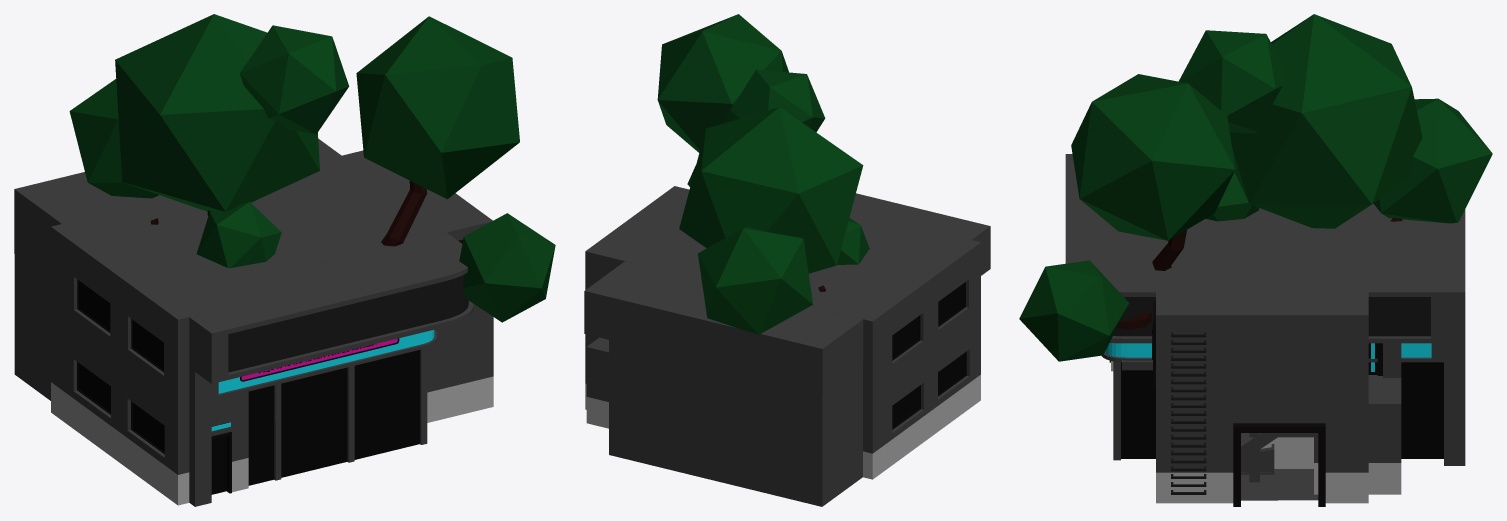
The model's file is city.fbx.
3 renders of one model, left to right at view 1: azimuth 30°, elevation 25°; view 2: azimuth 150°, elevation 25°; view 3: azimuth 270°, elevation 25°, orthographic. The views are drawn at different scales.
Visible parts, largest first — view 1: tree, shop, station; view 2: station, tree, shop, garage; view 3: tree, shop, station, garage, storage.
Boxes of the visible parts, <box> form: tree: <box>69,14,555,322</box>; shop: <box>51,150,493,505</box>; station: <box>14,139,473,506</box>; station: <box>584,193,990,506</box>; tree: <box>657,14,869,334</box>; shop: <box>585,186,980,479</box>; garage: <box>586,337,608,428</box>; tree: <box>1019,14,1492,361</box>; shop: <box>1109,207,1368,506</box>; station: <box>1065,154,1465,465</box>; garage: <box>1241,343,1401,494</box>; storage: <box>1241,444,1274,474</box>.
Size of the model in its own units: 1455 by 1577 by 1663.
